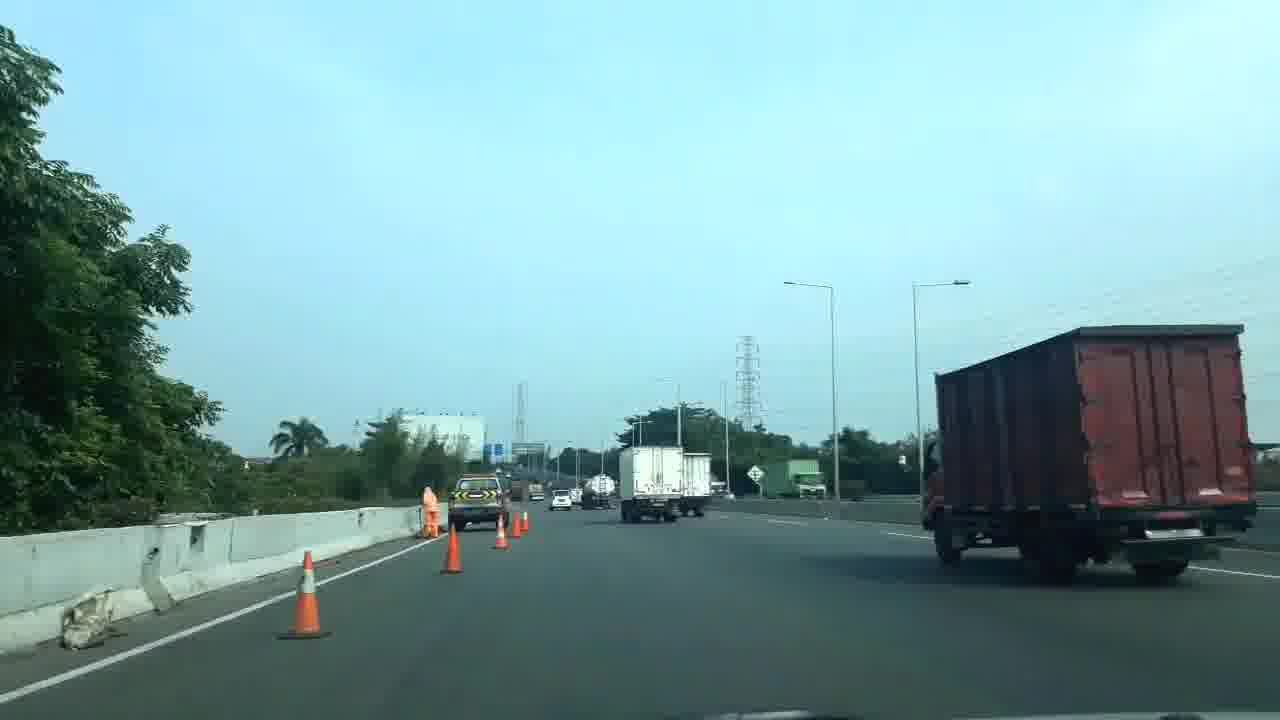plate_positive: (1145, 527, 1206, 539)
